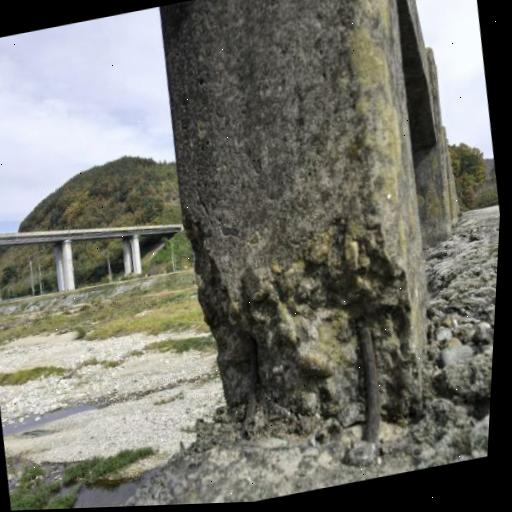exposed_rebar: (359, 326, 380, 442), (240, 336, 259, 436)
spalling: (188, 217, 426, 440)
